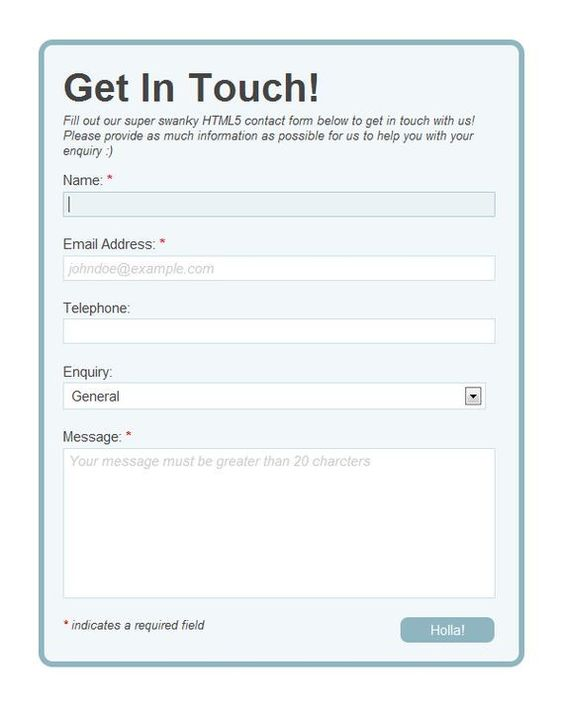_form_: (59, 12, 510, 424), (52, 246, 503, 658)
button: (400, 616, 495, 643)
field: (61, 445, 494, 600), (63, 187, 496, 219), (63, 316, 497, 346), (63, 253, 497, 282)
field_with_label: (57, 429, 498, 602), (59, 170, 500, 223), (60, 235, 501, 285), (62, 364, 488, 414), (61, 300, 501, 347)
select: (64, 381, 485, 412)
